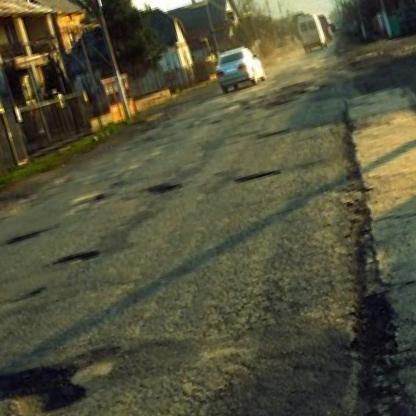pothole: (0, 351, 92, 416), (0, 284, 47, 309), (1, 225, 46, 250), (52, 246, 98, 269), (235, 164, 280, 185), (141, 176, 182, 198)
